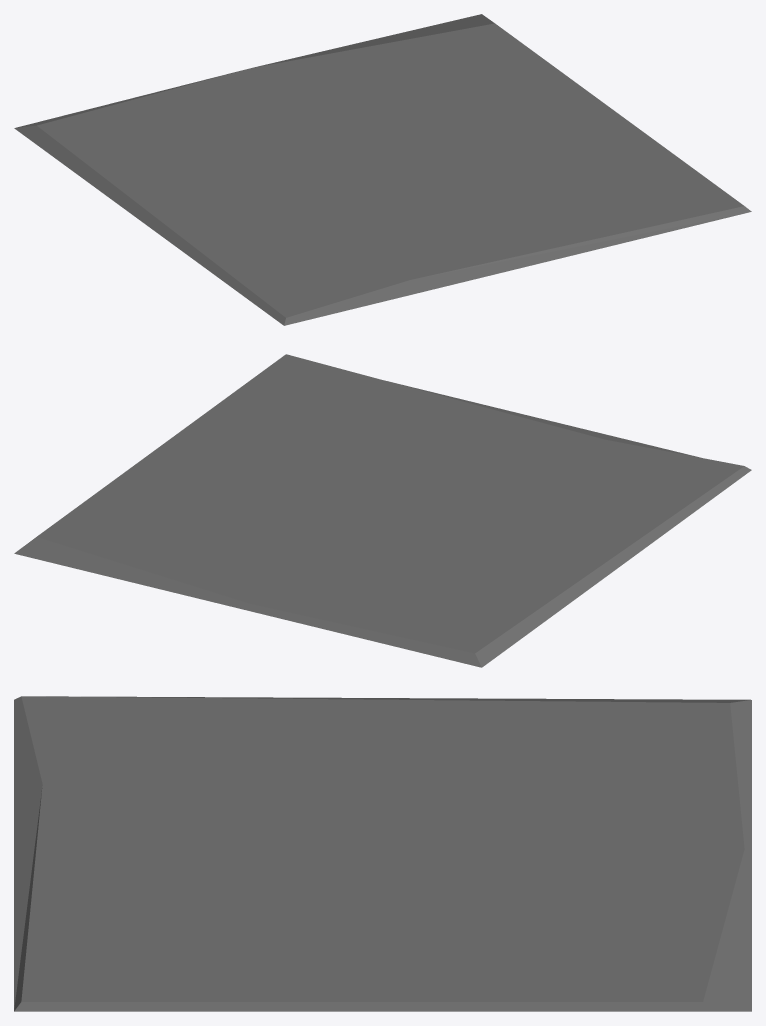
The model's file is SM_Envr_Canal_Floor_02.fbx.
3 renders of one model, top to bottom at view 1: azimuth 30°, elevation 25°; view 2: azimuth 150°, elevation 25°; view 3: azimuth 270°, elevation 25°, orthographic. The views are drawn at different scales.
Parts seen in each view (by area): view 1: SM_Envr_Canal_Floor_02; view 2: SM_Envr_Canal_Floor_02; view 3: SM_Envr_Canal_Floor_02.
Part boxes in pixels (box(x1,y1,x2,y2)): SM_Envr_Canal_Floor_02: box(14, 14, 751, 325); SM_Envr_Canal_Floor_02: box(14, 354, 751, 667); SM_Envr_Canal_Floor_02: box(14, 696, 751, 1011).
Bounding box in the file's own units: 500 × 5 × 500.
